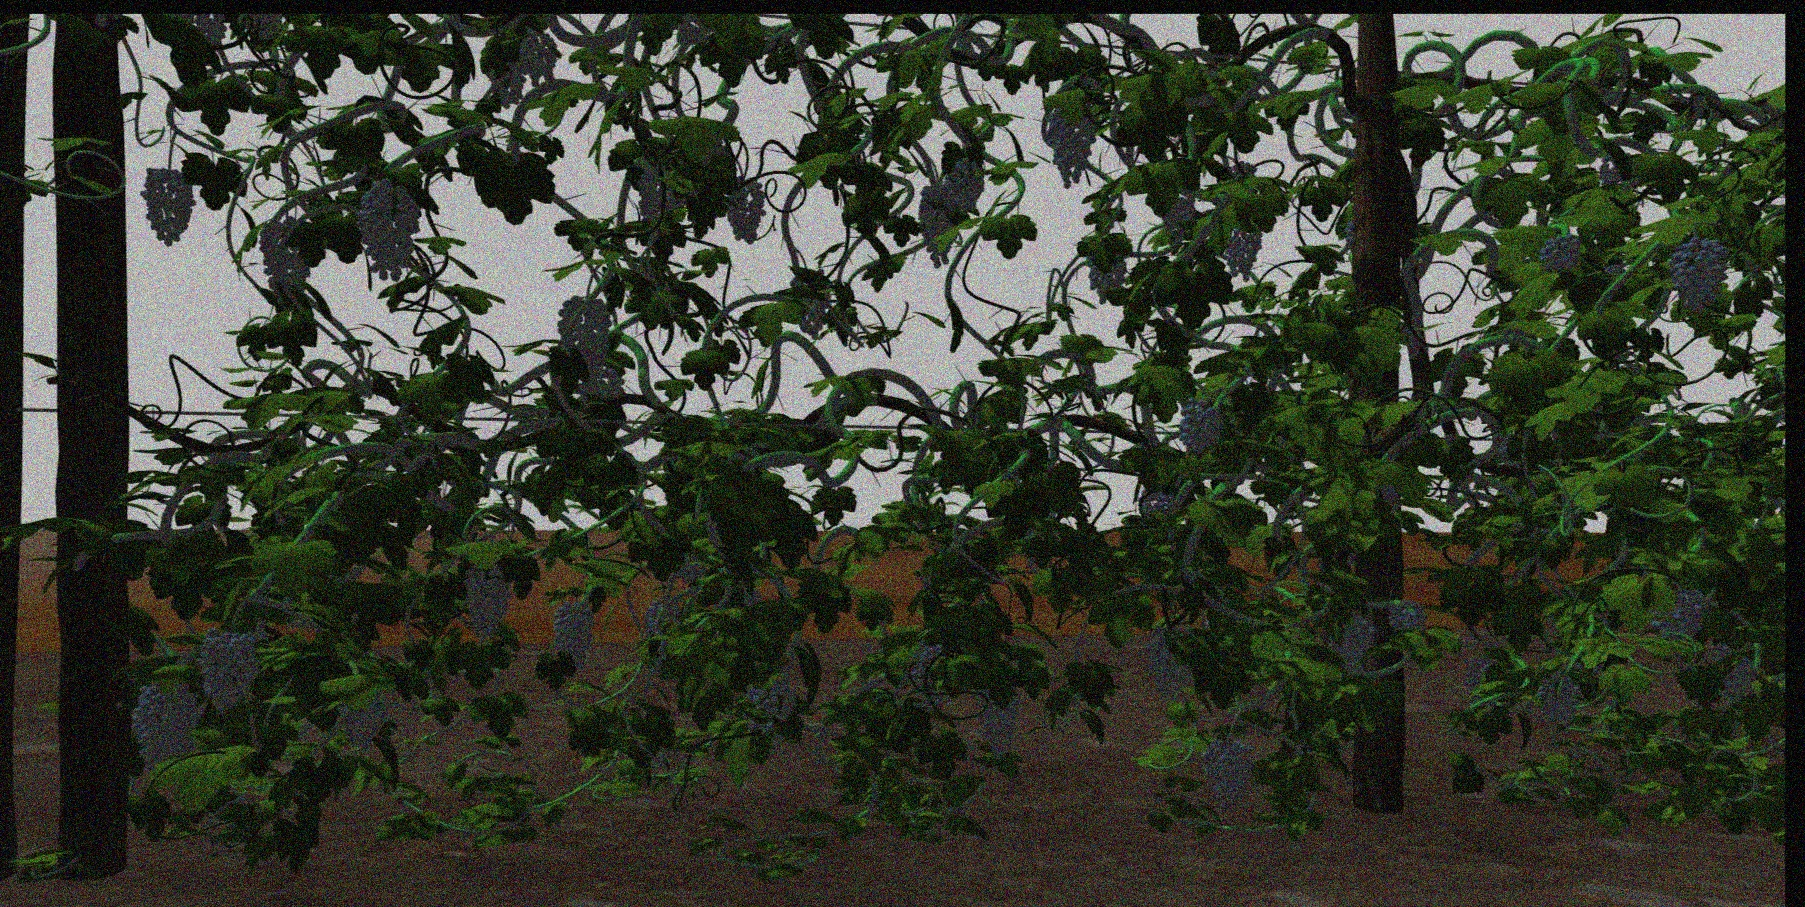grape: (355, 177, 420, 281), (130, 679, 201, 768), (198, 624, 260, 716), (1046, 94, 1098, 187), (557, 294, 612, 382), (140, 168, 197, 248), (1669, 237, 1728, 311), (460, 565, 511, 647), (1145, 624, 1194, 705), (258, 217, 312, 292), (1203, 735, 1257, 809), (918, 184, 960, 267), (550, 598, 595, 673), (1650, 587, 1706, 646), (978, 684, 1021, 757), (1536, 669, 1584, 728), (343, 690, 389, 750), (1329, 611, 1375, 669), (1179, 397, 1225, 455), (727, 176, 765, 244), (745, 685, 797, 733), (482, 51, 527, 106), (1085, 246, 1127, 304), (636, 172, 680, 224), (1225, 222, 1263, 279), (949, 158, 985, 212), (521, 35, 558, 84), (1540, 234, 1582, 274), (1388, 599, 1427, 631), (1142, 489, 1174, 517)
